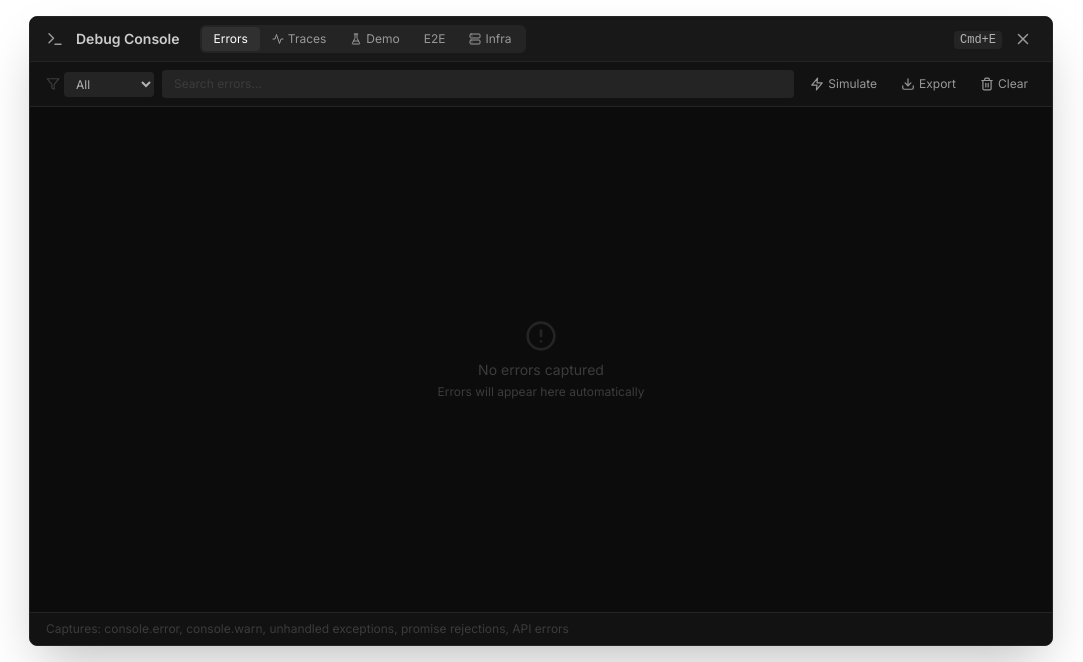
Test: ErrorConsole › Tab Switching › shows empty trace state when no traces
Step 1. Click the button "Traces" → coordinates (299, 39), box [260, 27, 338, 51]
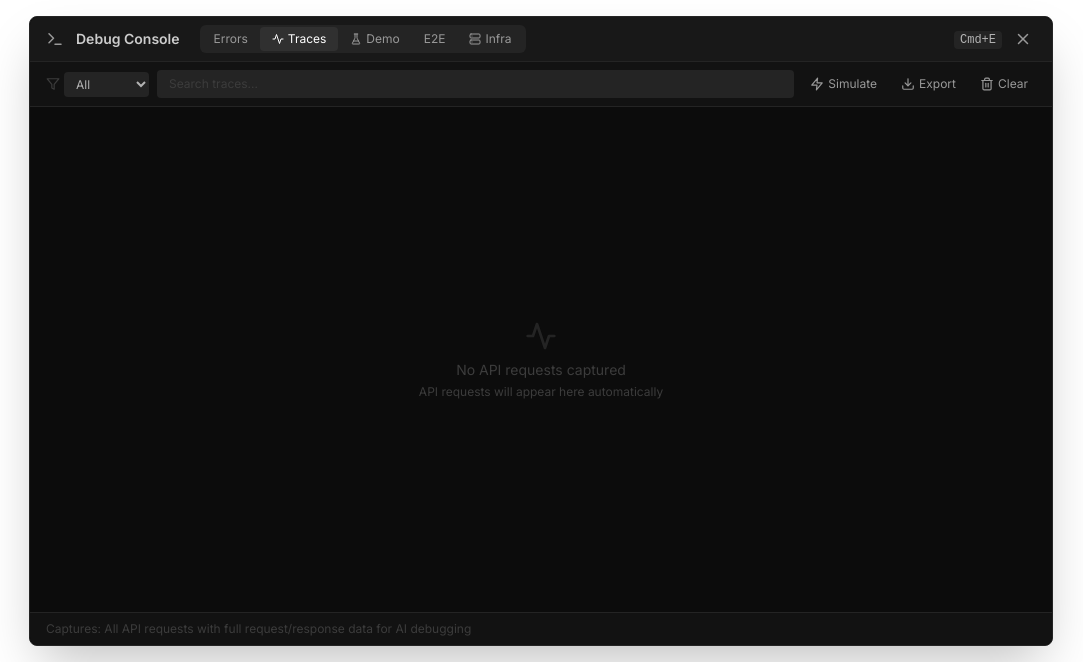
expect the text "No API requests captured" is shown: met, box [456, 360, 626, 380]
